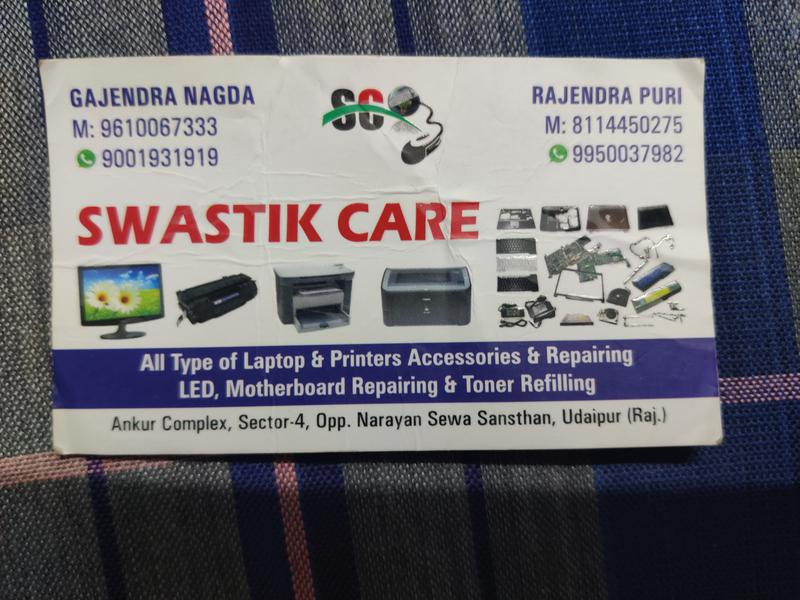card: (40, 53, 726, 456)
